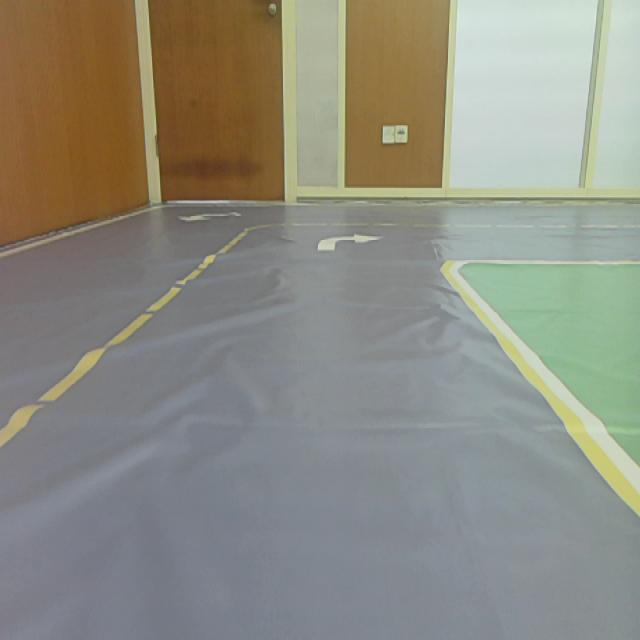left_lane: (1, 231, 246, 450)
right_lane: (440, 271, 639, 508)
